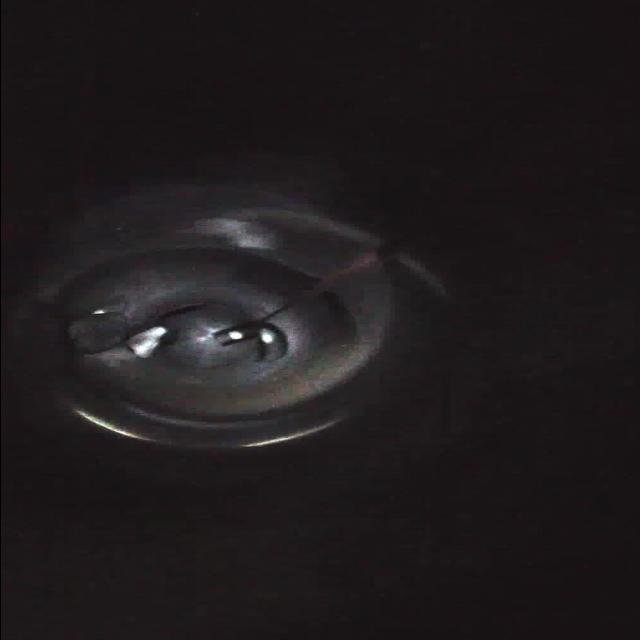impurity: (59, 312, 129, 360), (128, 322, 172, 364)
